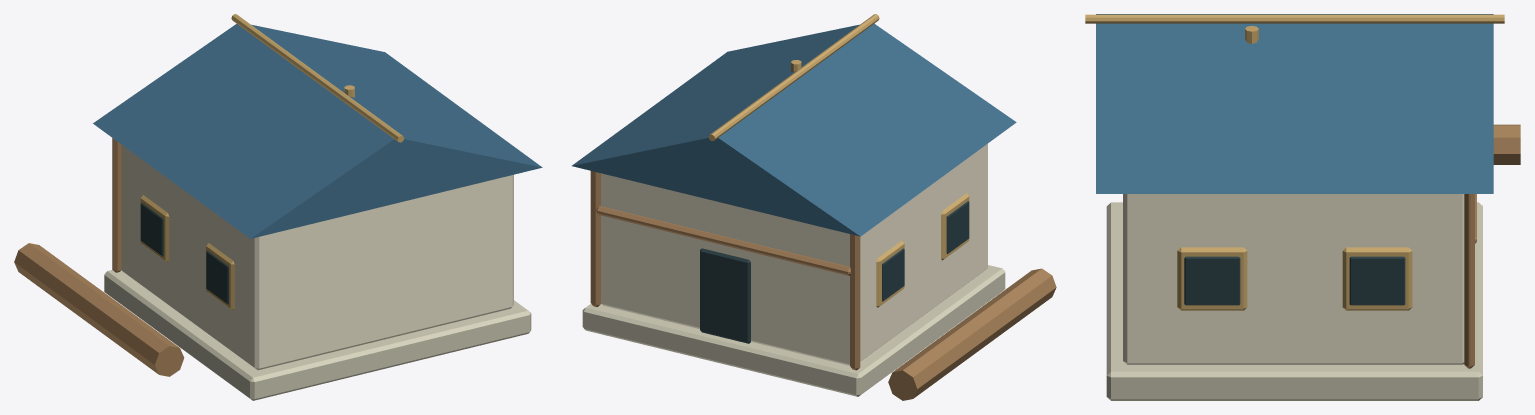
Rendered from level_05.glb.
3 views of the same model, side by side, from view 1: azimuth 30°, elevation 25°; view 2: azimuth 150°, elevation 25°; view 3: azimuth 270°, elevation 25° (orthographic). The views are drawn at different scales.
Visible parts, largest first — view 1: timber_yard — level 05; view 2: timber_yard — level 05; view 3: timber_yard — level 05.
Boxes of the visible parts, <box> form: timber_yard — level 05: <box>14,14,542,400</box>; timber_yard — level 05: <box>572,14,1056,400</box>; timber_yard — level 05: <box>1085,14,1520,400</box>.
Size of the model in its own units: 4.88 by 3.1 by 4.05.
